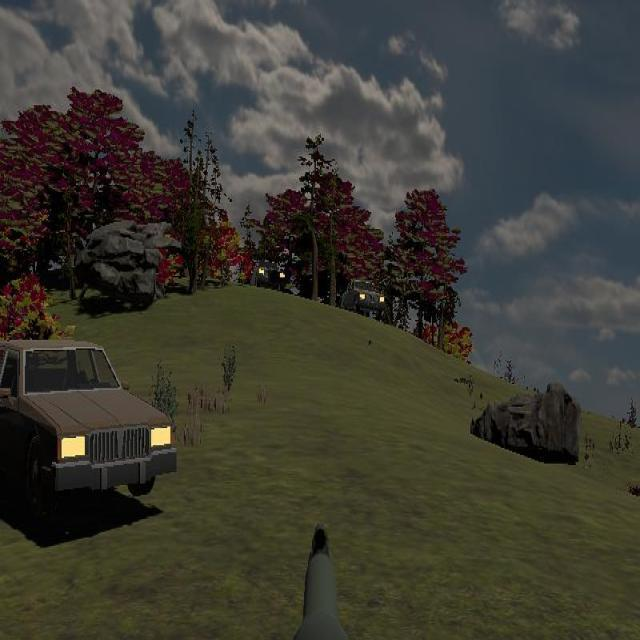car: (0, 337, 178, 524), (342, 277, 388, 320)
